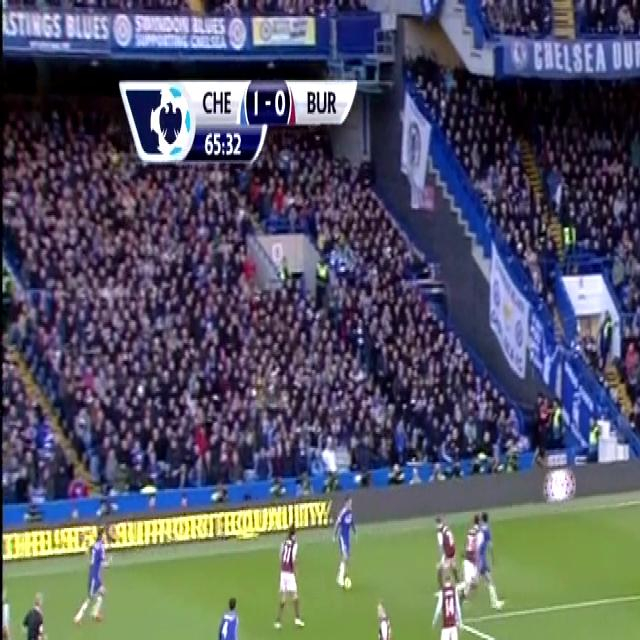referee: (15, 585, 51, 640)
soccer-player: (67, 516, 110, 631), (459, 503, 498, 613), (273, 518, 308, 636), (332, 488, 362, 599), (430, 505, 459, 598), (429, 576, 464, 640), (211, 590, 249, 640), (364, 594, 396, 640), (565, 633, 605, 640)
